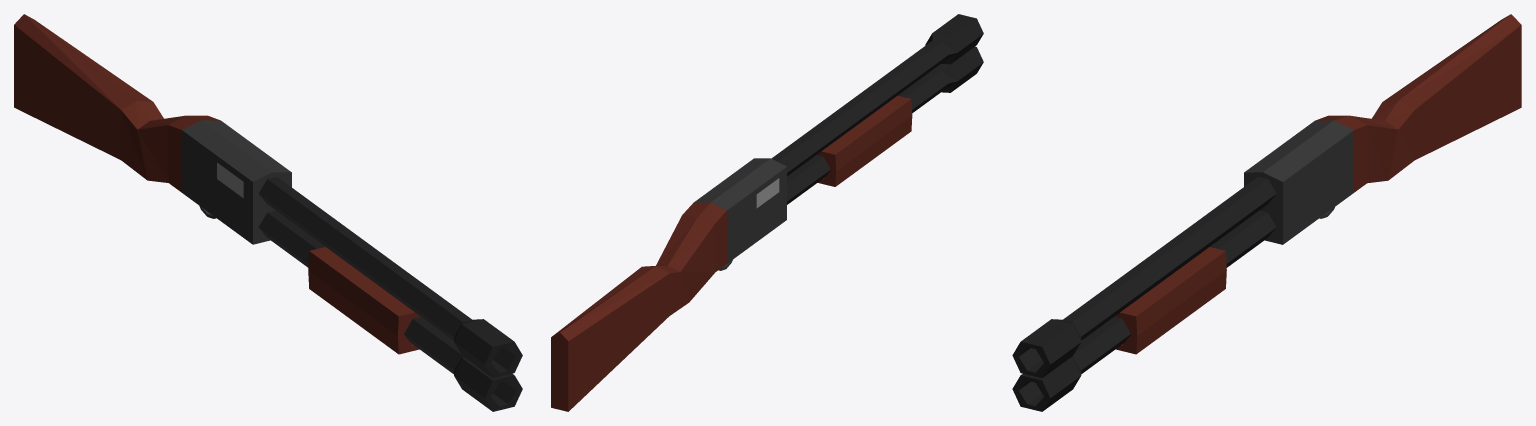
The model's file is Shotgun.FBX.
3 views of the same model, side by side, from view 1: azimuth 30°, elevation 25°; view 2: azimuth 150°, elevation 25°; view 3: azimuth 330°, elevation 25° (orthographic). The views are drawn at different scales.
Visible parts, largest first — view 1: Box007; view 2: Box007; view 3: Box007.
Part boxes in pixels (x1,y1,x2,y2): Box007: [14, 14, 522, 411]; Box007: [551, 14, 983, 411]; Box007: [1012, 14, 1521, 411].
Bounding box in the file's own units: 8.49 × 22.85 × 174.
